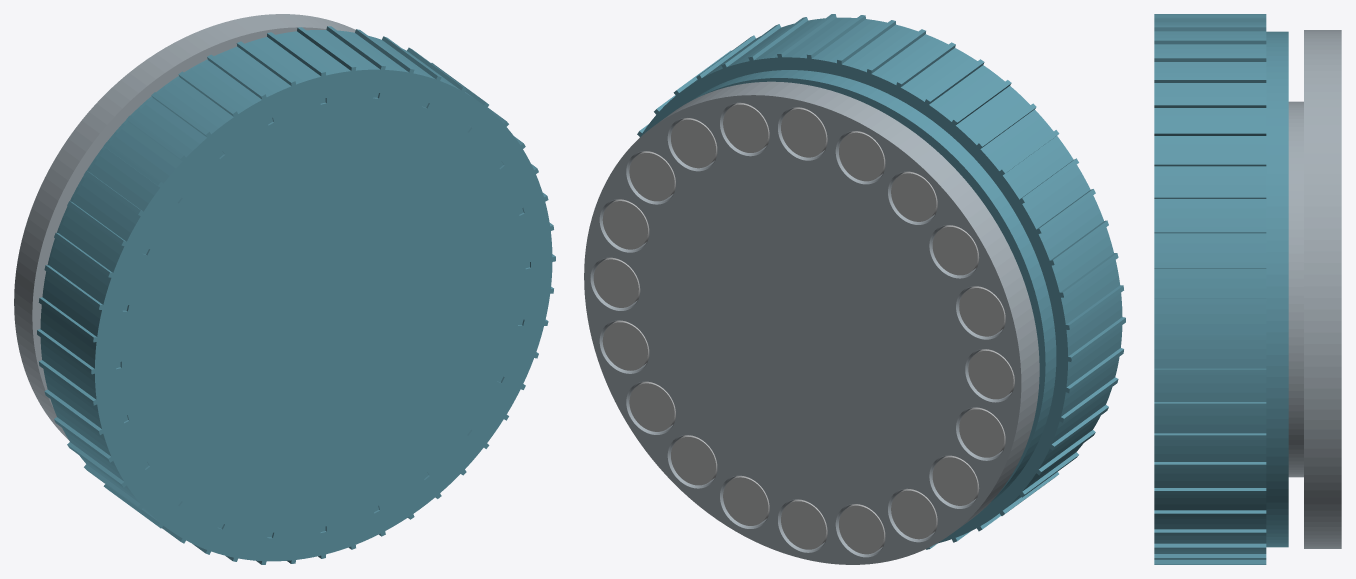
The model's file is V3_assembled.glb.
The picture shows the model from 3 angles, left to right: view 1: azimuth 30°, elevation 25°; view 2: azimuth 150°, elevation 25°; view 3: azimuth 270°, elevation 25°; orthographic projection. The views are drawn at different scales.
Visible parts, largest first — view 1: Cap_circular, Base_V3_Discs; view 2: Base_V3_Discs, Cap_circular, Attachment_Disc_16, Attachment_Disc_06, Attachment_Disc_10, Attachment_Disc_02, Attachment_Disc_18, Attachment_Disc_01, Attachment_Disc_12, Attachment_Disc_19, Attachment_Disc_07, Attachment_Disc_09 (+10 smaller); view 3: Cap_circular, Base_V3_Discs.
Boxes of the visible parts, x1,y1,x2,y2 form: Cap_circular: [37, 26, 555, 564]; Base_V3_Discs: [14, 14, 355, 439]; Base_V3_Discs: [584, 81, 1039, 564]; Cap_circular: [637, 14, 1125, 549]; Attachment_Disc_16: [781, 499, 827, 549]; Attachment_Disc_06: [781, 107, 827, 157]; Attachment_Disc_10: [959, 286, 1005, 336]; Attachment_Disc_02: [602, 199, 649, 249]; Attachment_Disc_18: [671, 435, 717, 485]; Attachment_Disc_01: [593, 257, 640, 307]; Attachment_Disc_12: [959, 407, 1005, 457]; Attachment_Disc_19: [629, 381, 675, 431]; Attachment_Disc_07: [839, 131, 885, 181]; Attachment_Disc_09: [932, 225, 979, 275]; Cap_circular: [1154, 14, 1288, 564]; Base_V3_Discs: [1288, 30, 1341, 548].
Bounding box in the file's own units: 61.6 × 61.6 × 20.9.
